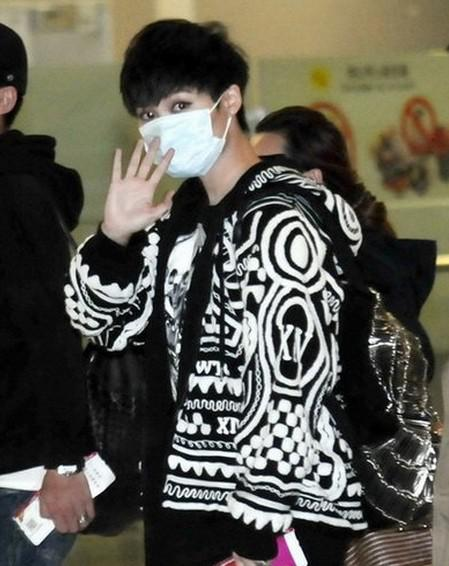OK: (132, 86, 222, 183)
